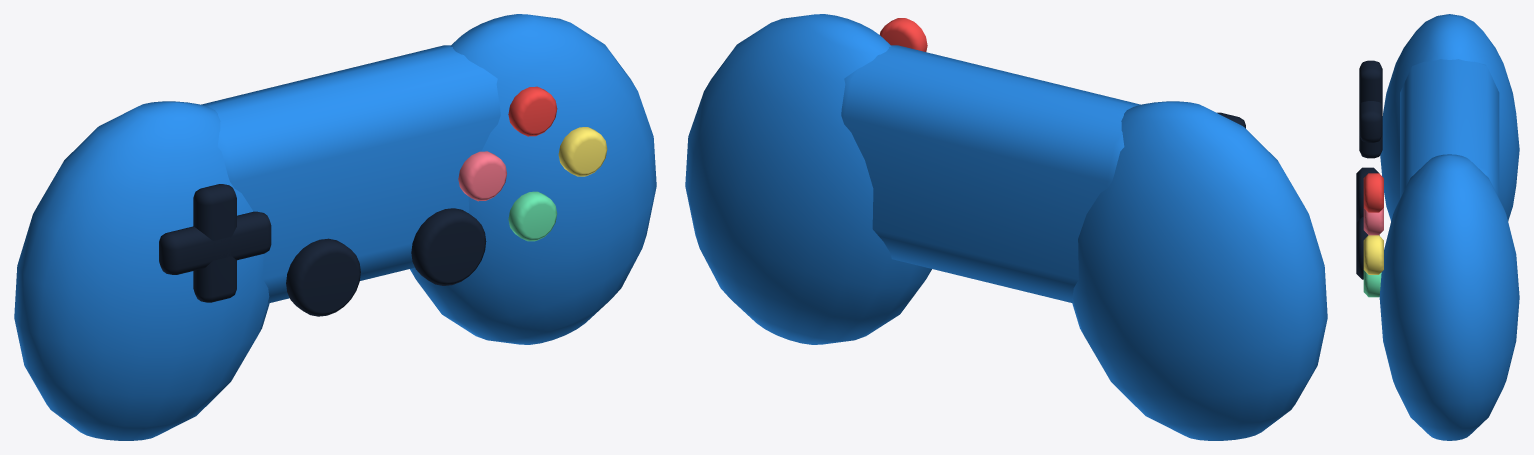
Rendered from gamepad.glb.
The picture shows the model from 3 angles, left to right: view 1: azimuth 30°, elevation 25°; view 2: azimuth 150°, elevation 25°; view 3: azimuth 270°, elevation 25°; orthographic projection. The views are drawn at different scales.
Parts seen in each view (by area): view 1: gamepad; view 2: gamepad; view 3: gamepad.
Boxes of the visible parts, left/top/right/bottom form: gamepad: left=14, top=14, right=656, bottom=440; gamepad: left=685, top=14, right=1327, bottom=440; gamepad: left=1356, top=14, right=1519, bottom=440.
Size of the model in its own units: 1 by 0.489 by 0.2791.
Materials: 1 (1 with a texture image).
